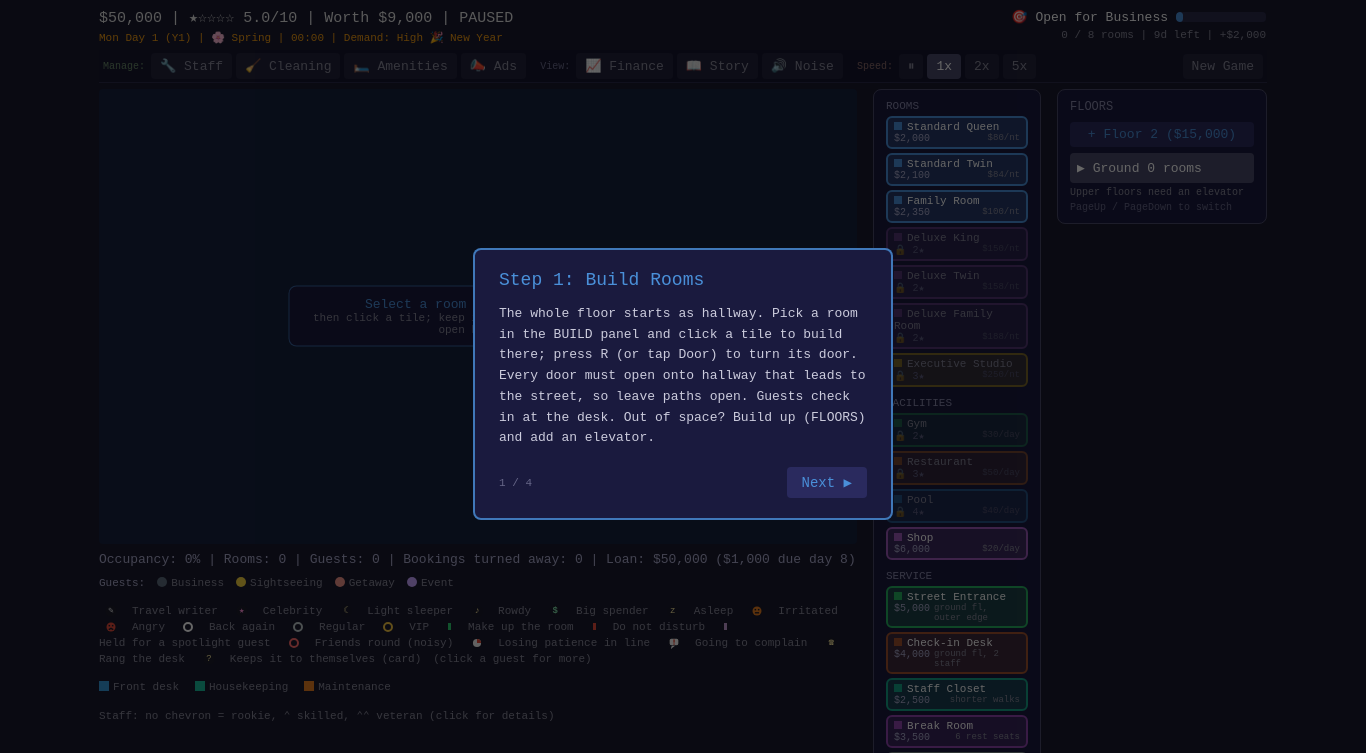
Test case: Interface › the tutorial walks through its steps and starts the clock
Expected: the dialog named "Tutorial" is shown, top-left (473, 248), bottom-right (893, 520)
Click the button "Next ▶".
click(827, 483)  # box top-left (787, 467), bottom-right (867, 498)
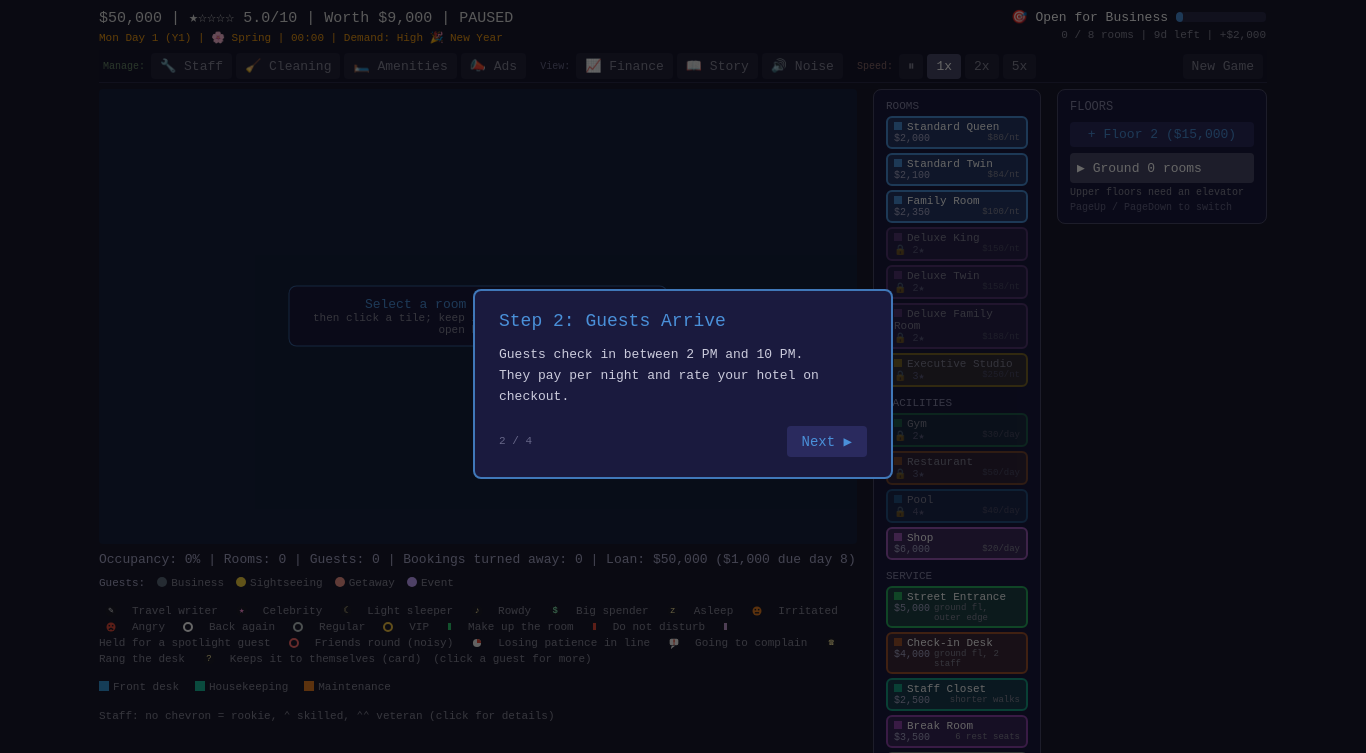
Click the button "Next ▶".
click(827, 441)  # box top-left (787, 426), bottom-right (867, 457)
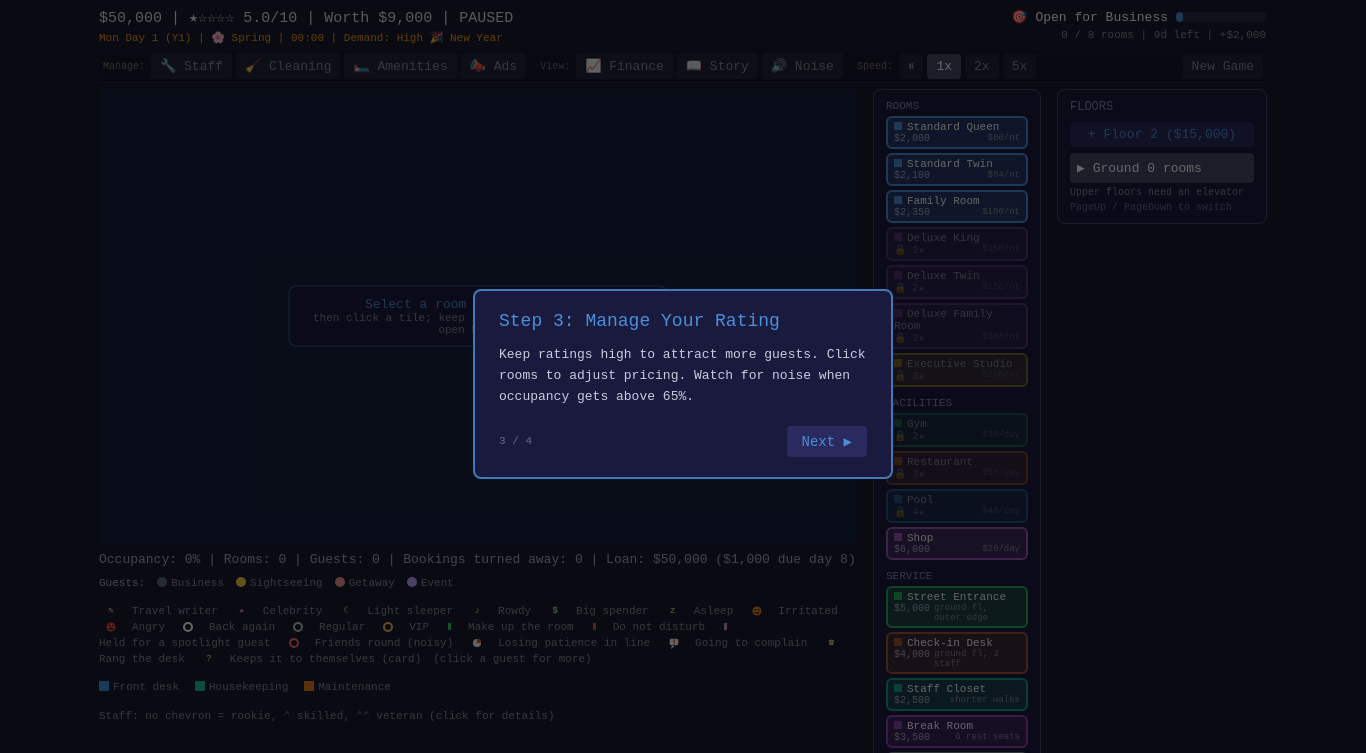
Click the button "Next ▶".
click(827, 441)  # box top-left (787, 426), bottom-right (867, 457)
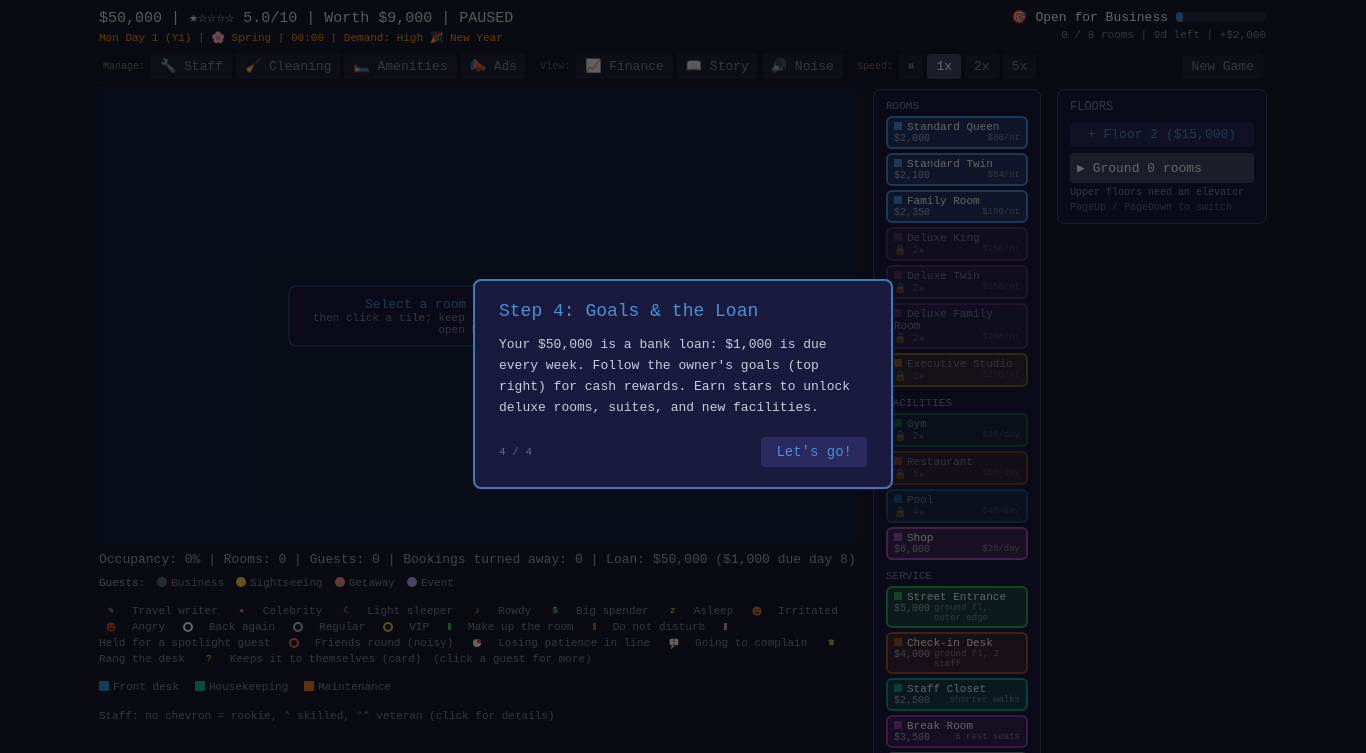
Click the button "Let's go!".
click(814, 452)  # box top-left (761, 437), bottom-right (867, 467)
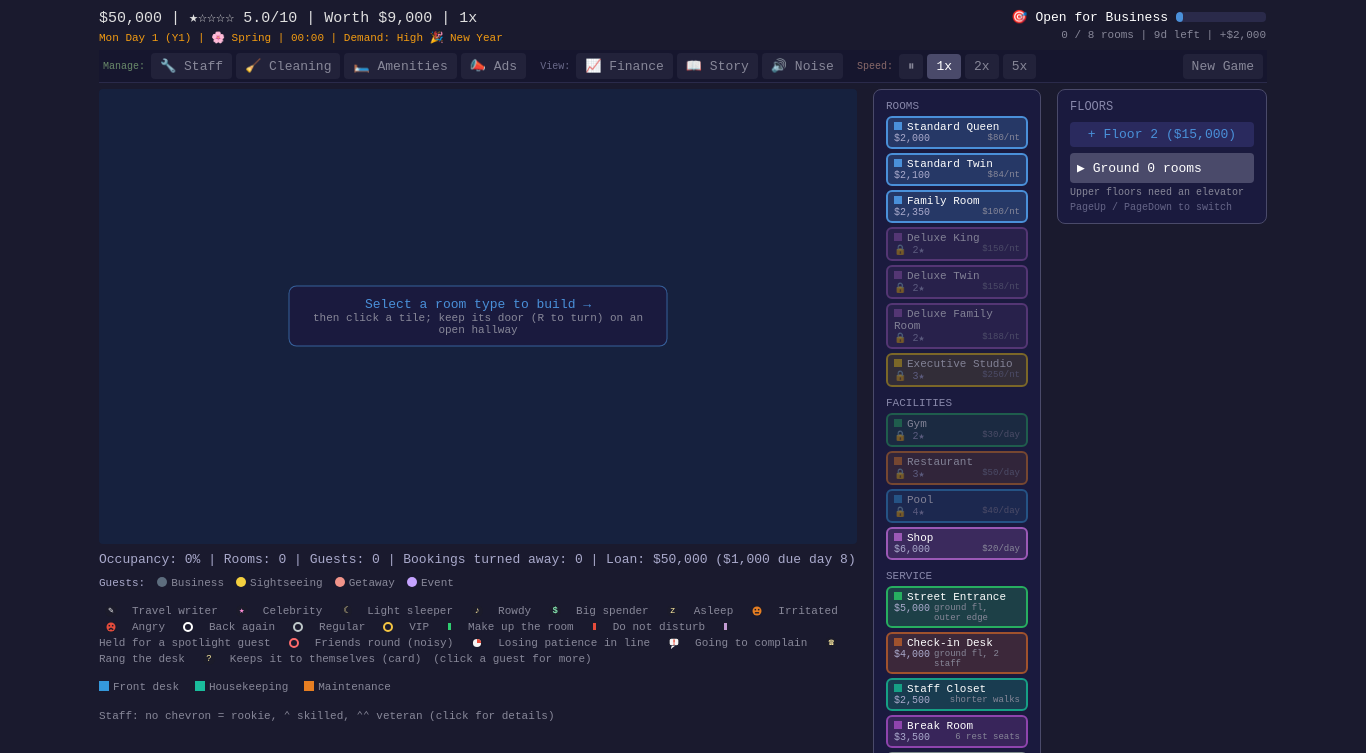
Expected: the dialog "Tutorial" is gone
